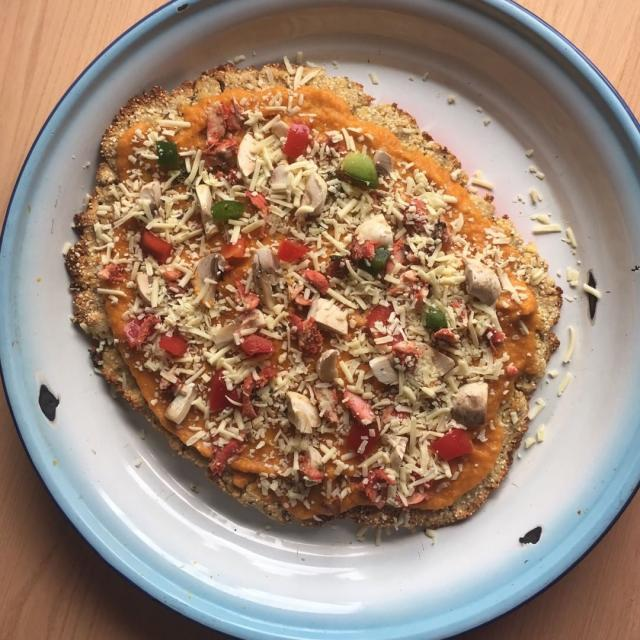mushrooms: (369, 348, 446, 385), (459, 251, 510, 300), (450, 376, 492, 424), (293, 169, 329, 217), (193, 179, 223, 235), (192, 248, 220, 304), (285, 387, 319, 433), (163, 374, 195, 420), (356, 212, 393, 250), (308, 296, 348, 331), (308, 349, 342, 381)
pizza: (60, 55, 568, 544)
